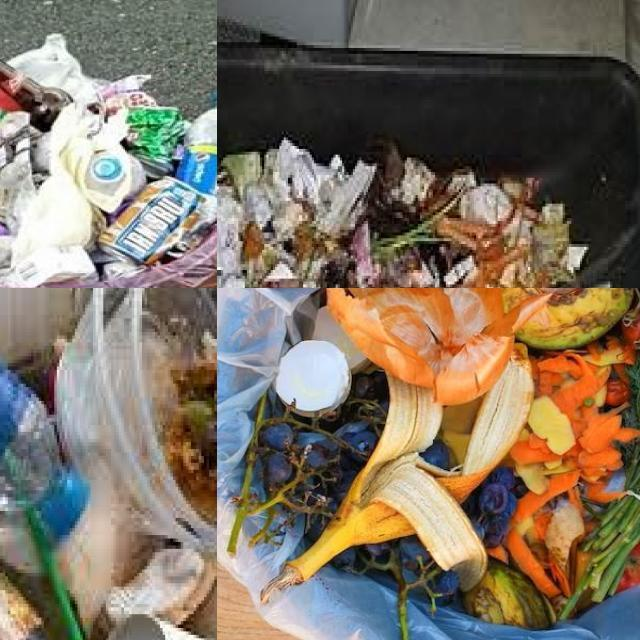Disposable: (57, 288, 217, 550), (154, 621, 203, 640)
Garbage: (228, 288, 640, 640), (0, 288, 217, 640), (217, 135, 591, 288), (0, 34, 217, 288)
Glass_bottle: (0, 60, 73, 131)
Plastic: (6, 34, 85, 94)
Plastic_Straw: (25, 507, 85, 640)
Plastic_bottle: (175, 90, 217, 199), (85, 145, 146, 213)
Plastic_wraper: (125, 107, 189, 177)
can: (99, 177, 202, 264)
